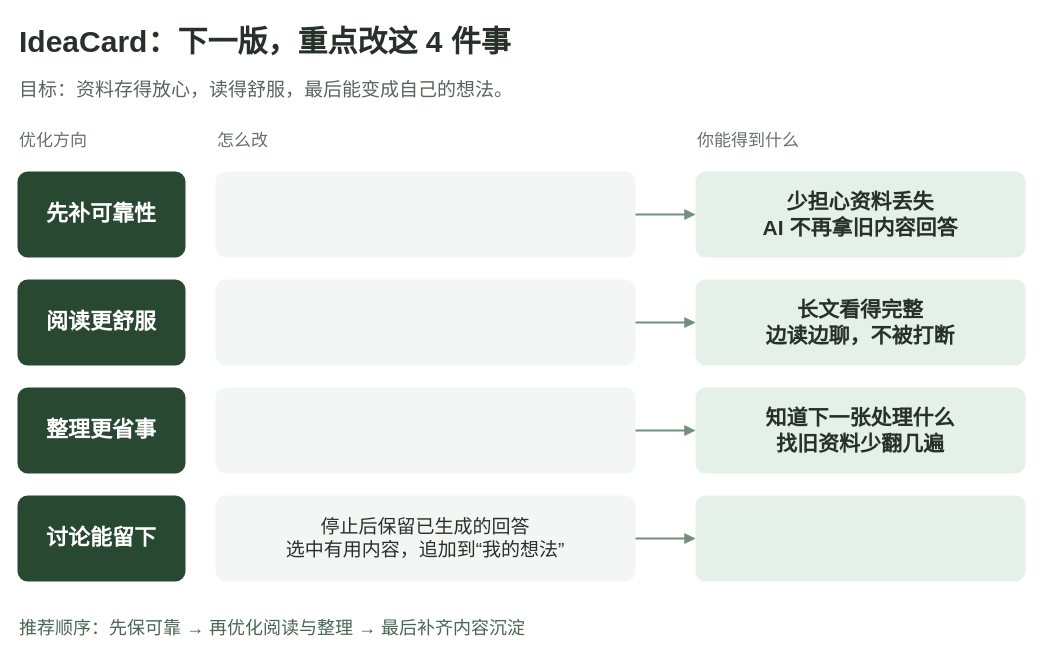
Image size: 1044x660. Some labels were removed from this diagram. The centre of each missing label's shape, as x and y in pixels:
"加载失败不覆盖原文 AI 用最新内容，逐步补上备份" belongs at point 425,214.
"正文可展开，减少重复标题 AI 输出时，不把你强拉到底部" belongs at point 425,322.
"筛出“待整理”，搜索显示匹配片段 用快捷键切换卡片" belongs at point 425,430.
"聊完就能留下结论 少做复制粘贴" belongs at point 860,538.
